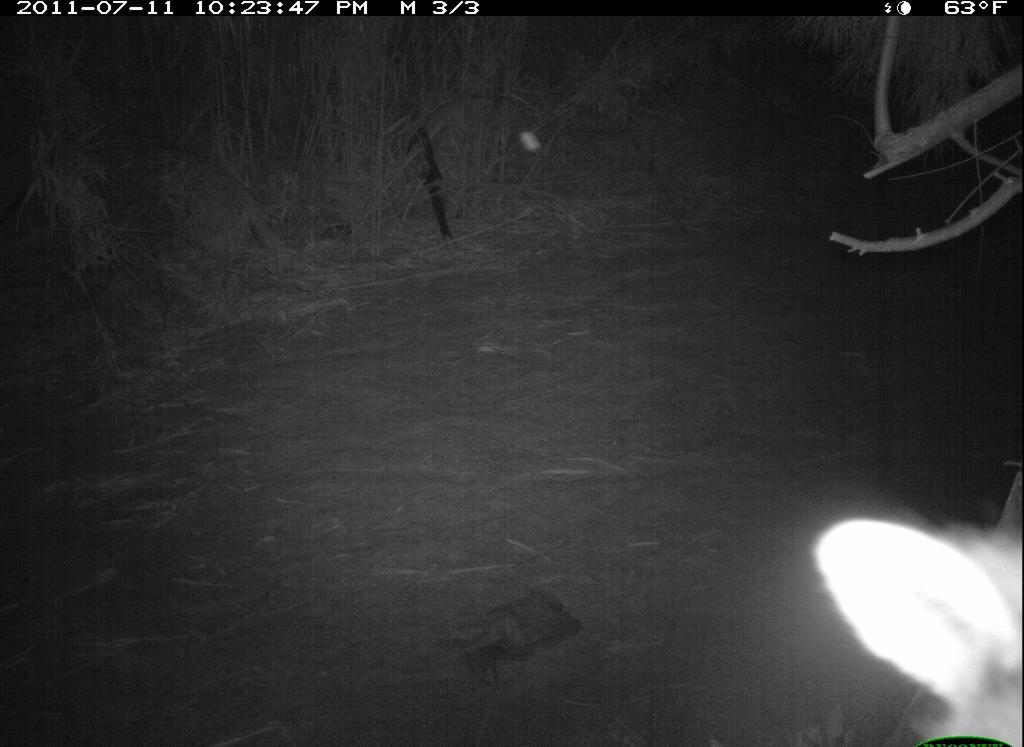raccoon: (781, 449, 1022, 747)
